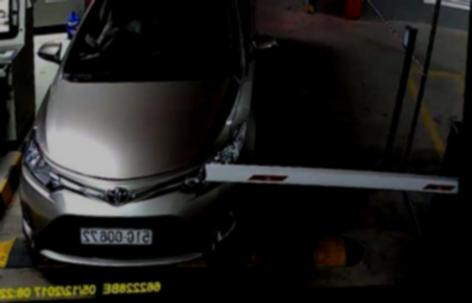License_Plate: (78, 223, 155, 247)
